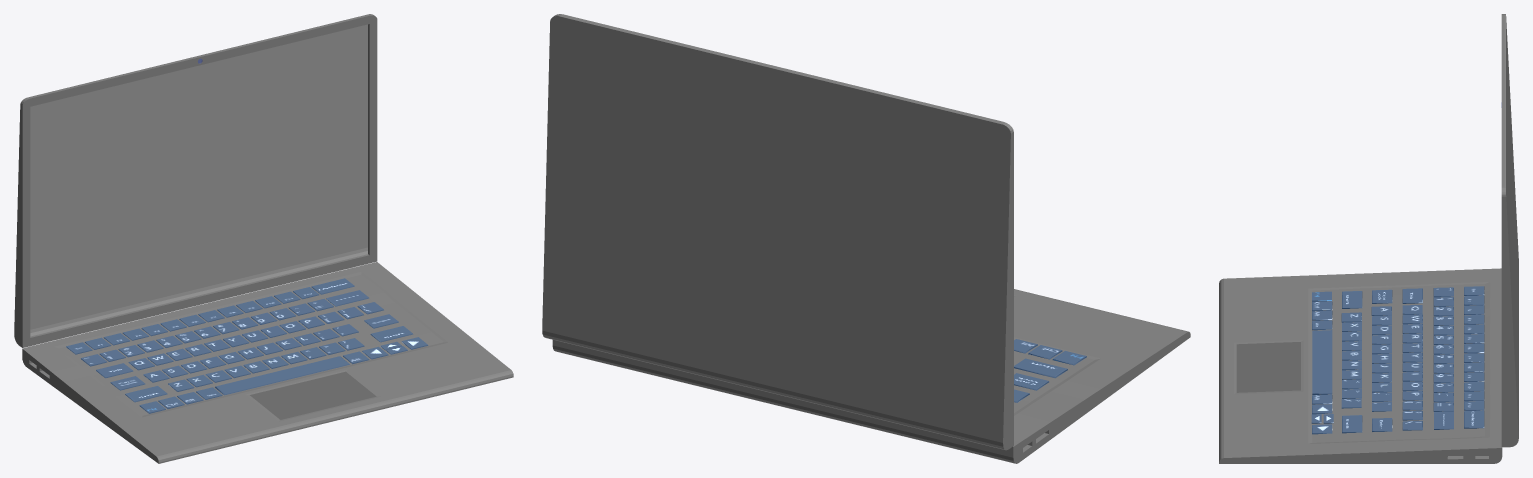
Rendered from laptop.glb.
3 renders of one model, left to right at view 1: azimuth 30°, elevation 25°; view 2: azimuth 150°, elevation 25°; view 3: azimuth 270°, elevation 25°, orthographic. The views are drawn at different scales.
Visible parts, largest first — view 1: lid, body, tilda.029; view 2: lid, body; view 3: body, lid, tilda.029, tilda.066, tilda.056, tilda.071, tilda.067, tilda.014.
Part boxes in pixels (x1=…): lid: x1=14, y1=14, x2=377, y2=347; body: x1=22, y1=262, x2=513, y2=463; tilda.029: x1=215, y1=356, x2=349, y2=395; lid: x1=542, y1=14, x2=1013, y2=450; body: x1=552, y1=289, x2=1190, y2=463; body: x1=1219, y1=268, x2=1502, y2=463; lid: x1=1501, y1=14, x2=1518, y2=447; tilda.029: x1=1312, y1=330, x2=1332, y2=394; tilda.066: x1=1464, y1=410, x2=1484, y2=428; tilda.056: x1=1342, y1=415, x2=1362, y2=433; tilda.071: x1=1342, y1=291, x2=1362, y2=308; tilda.067: x1=1434, y1=411, x2=1453, y2=429; tilda.014: x1=1402, y1=288, x2=1422, y2=303.
Size of the model in its own units: 0.6096 by 0.4328 by 0.4302.
Materials: 79 (74 with a texture image).
